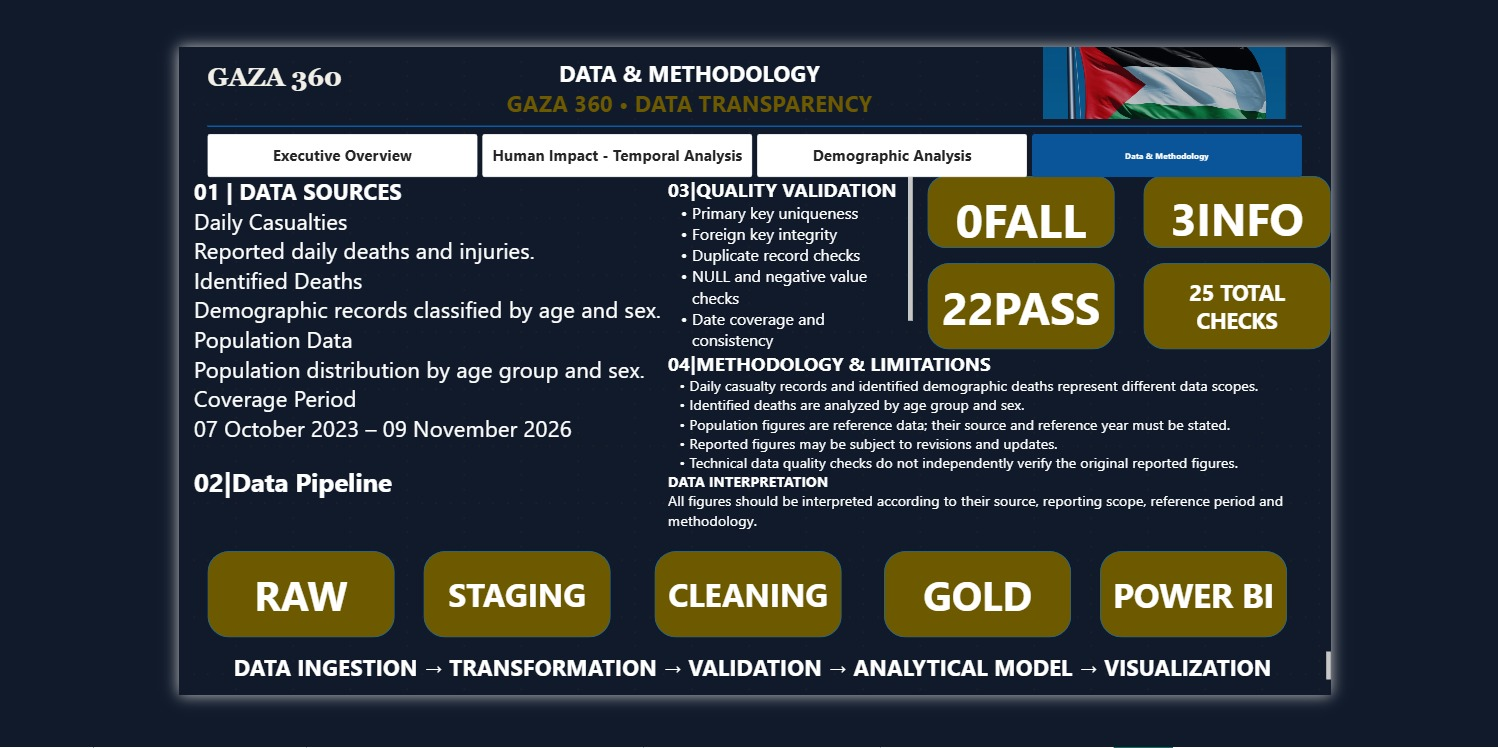

The page's visual inventory and layout, read from the dashboard file:
{"tool":"powerbi","page":{"name":"Data & Methodology","canvas":[1920,1080],"ordinal":3},"visuals":[{"type":"textbox","box":[48,24,268.4,56.1],"z":0},{"type":"shape","box":[48,120,1824,24],"z":1000},{"type":"image","box":[1440,0,408,120],"z":2000},{"type":"textbox","box":[456,0,792,120],"z":3000},{"type":"textbox","box":[24,216,840,456],"z":4000},{"type":"shape","box":[48,840,312,144],"z":5000},{"type":"shape","box":[408,840,312,144],"z":6000},{"type":"shape","box":[792,840,312,144],"z":7000},{"type":"shape","box":[1176,840,312,144],"z":8000},{"type":"shape","box":[1536,840,312,144],"z":9000},{"type":"textbox","box":[0,1008,1920,48],"z":10000},{"type":"textbox","box":[24,696,576,72],"z":11000},{"type":"shape","box":[1248,216,312,120],"z":12000},{"type":"shape","box":[1608,216,312,120],"z":13000},{"type":"shape","box":[1608,360,312,144],"z":14000},{"type":"shape","box":[1248,360,312,144],"z":15000},{"type":"textbox","box":[816,216,408,288],"z":16000},{"type":"textbox","box":[816,504,1080,312],"z":17000},{"type":"pageNavigator","box":[48,144,1824,72],"z":18000}]}

Visuals, with their boxes on the page's 1920x1080 design canvas (x1, y1, x2, y2). These are canvas units, not pixel positions in the 1498x748 screenshot, which may show the page scaled, cropped or inside an application window:
textbox: crop(48, 24, 316, 80)
shape: crop(48, 120, 1872, 144)
image: crop(1440, 0, 1848, 120)
textbox: crop(456, 0, 1248, 120)
textbox: crop(24, 216, 864, 672)
shape: crop(48, 840, 360, 984)
shape: crop(408, 840, 720, 984)
shape: crop(792, 840, 1104, 984)
shape: crop(1176, 840, 1488, 984)
shape: crop(1536, 840, 1848, 984)
textbox: crop(0, 1008, 1920, 1056)
textbox: crop(24, 696, 600, 768)
shape: crop(1248, 216, 1560, 336)
shape: crop(1608, 216, 1920, 336)
shape: crop(1608, 360, 1920, 504)
shape: crop(1248, 360, 1560, 504)
textbox: crop(816, 216, 1224, 504)
textbox: crop(816, 504, 1896, 816)
pageNavigator: crop(48, 144, 1872, 216)
